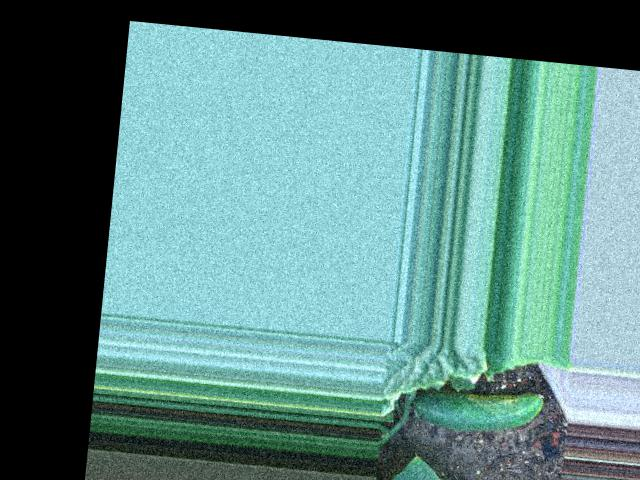cucumber: (413, 381, 545, 437)
